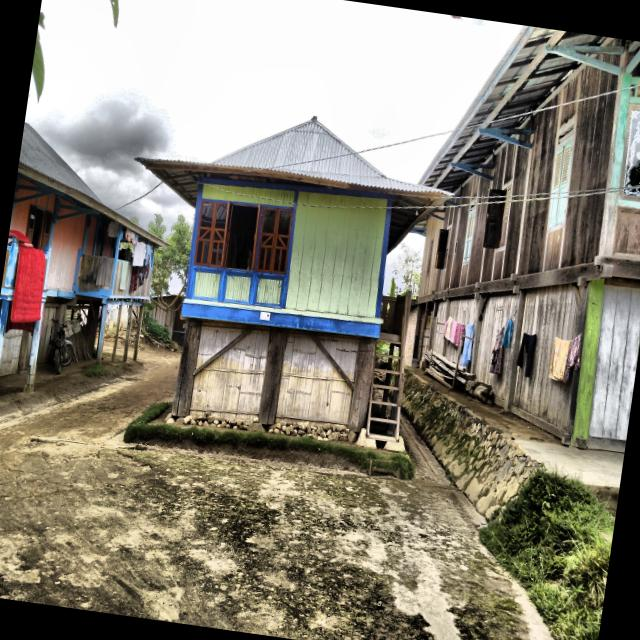column: (171, 318, 202, 417), (259, 327, 288, 425), (347, 338, 376, 433)
roof: (135, 116, 455, 255)
stair: (366, 292, 408, 443)
wall: (190, 183, 295, 309), (285, 191, 388, 317), (189, 325, 270, 422), (274, 330, 352, 426), (196, 322, 250, 369), (313, 333, 359, 384)
window: (221, 201, 262, 271), (256, 207, 293, 274), (194, 201, 228, 268), (619, 104, 640, 201), (549, 140, 572, 228), (482, 184, 512, 249), (434, 228, 451, 269), (463, 211, 475, 263), (426, 239, 434, 276)
